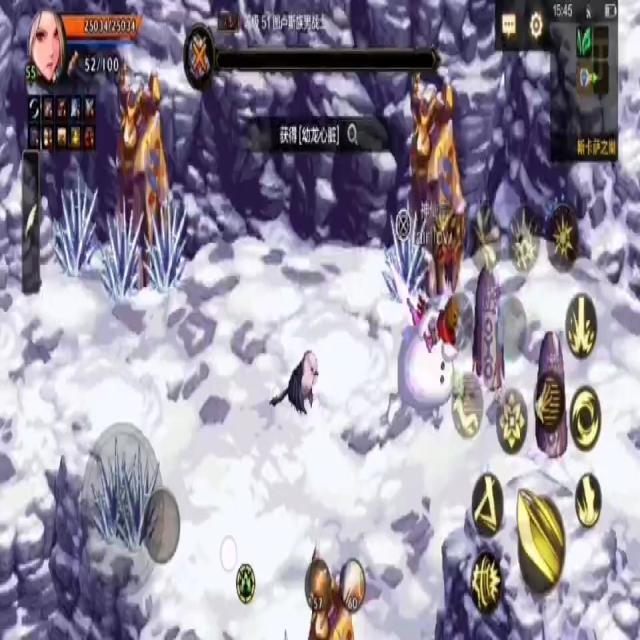player: (386, 275, 462, 448)
